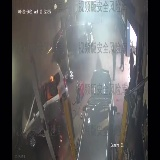fire: (47, 76, 56, 90)
